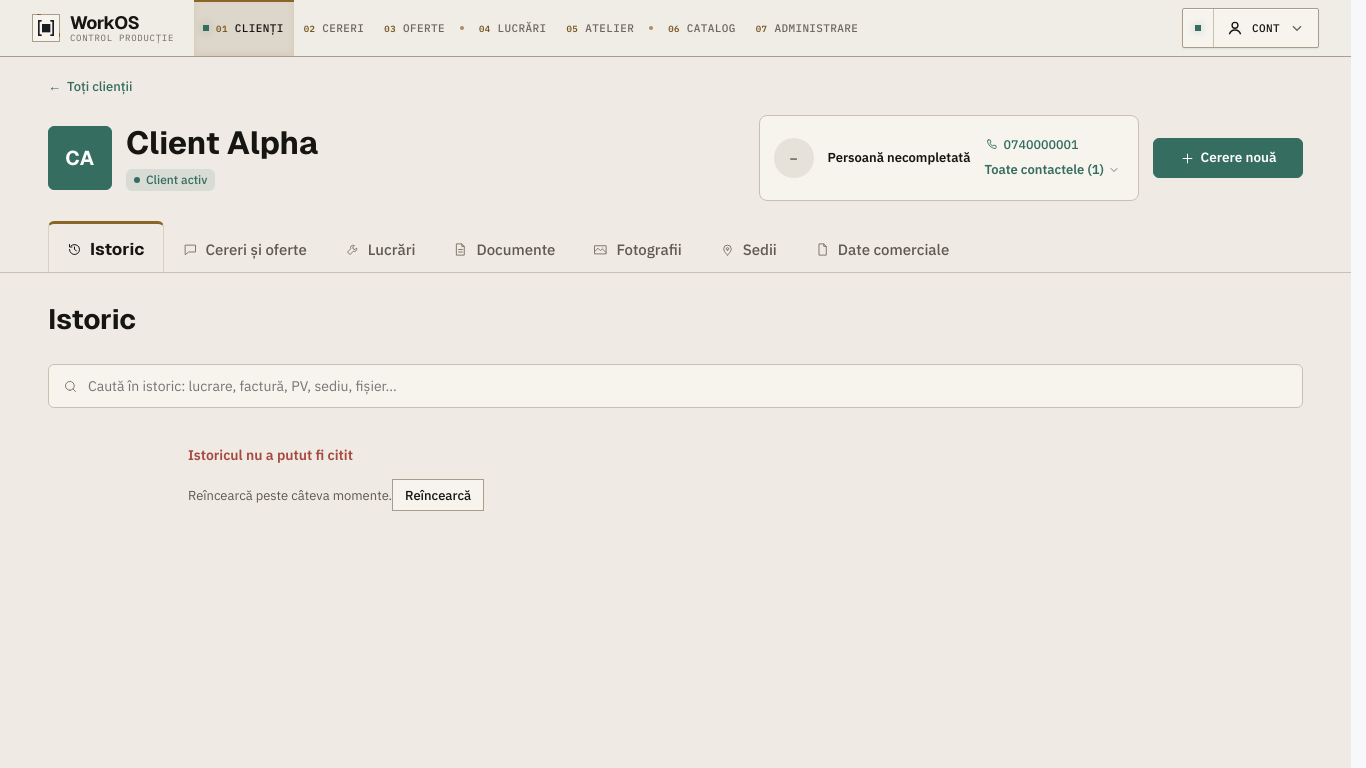
Test: App Cloud auth integration › isolates cached hub data and late reads while switching organization (new GET 403)
This screenshot has width=1366, height=768.
Check: the heading "Client Alpha" is shown, box 126,125 -> 318,161
Click the button "Cont". click: (1266, 28)
box: 1214,9 -> 1318,47
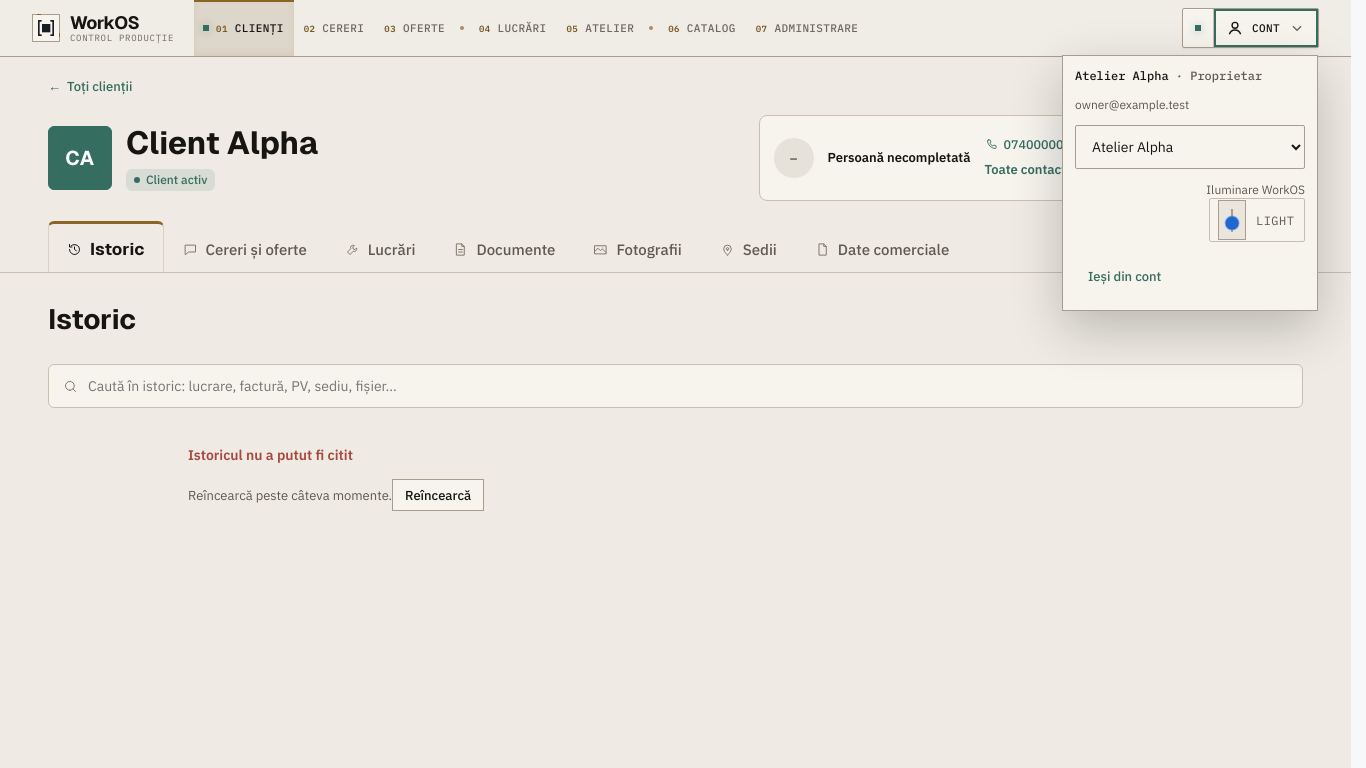
Select "Atelier Beta" in the dropdown named "Organizație activă". click: (1190, 147)
box: 1075,125 -> 1305,169
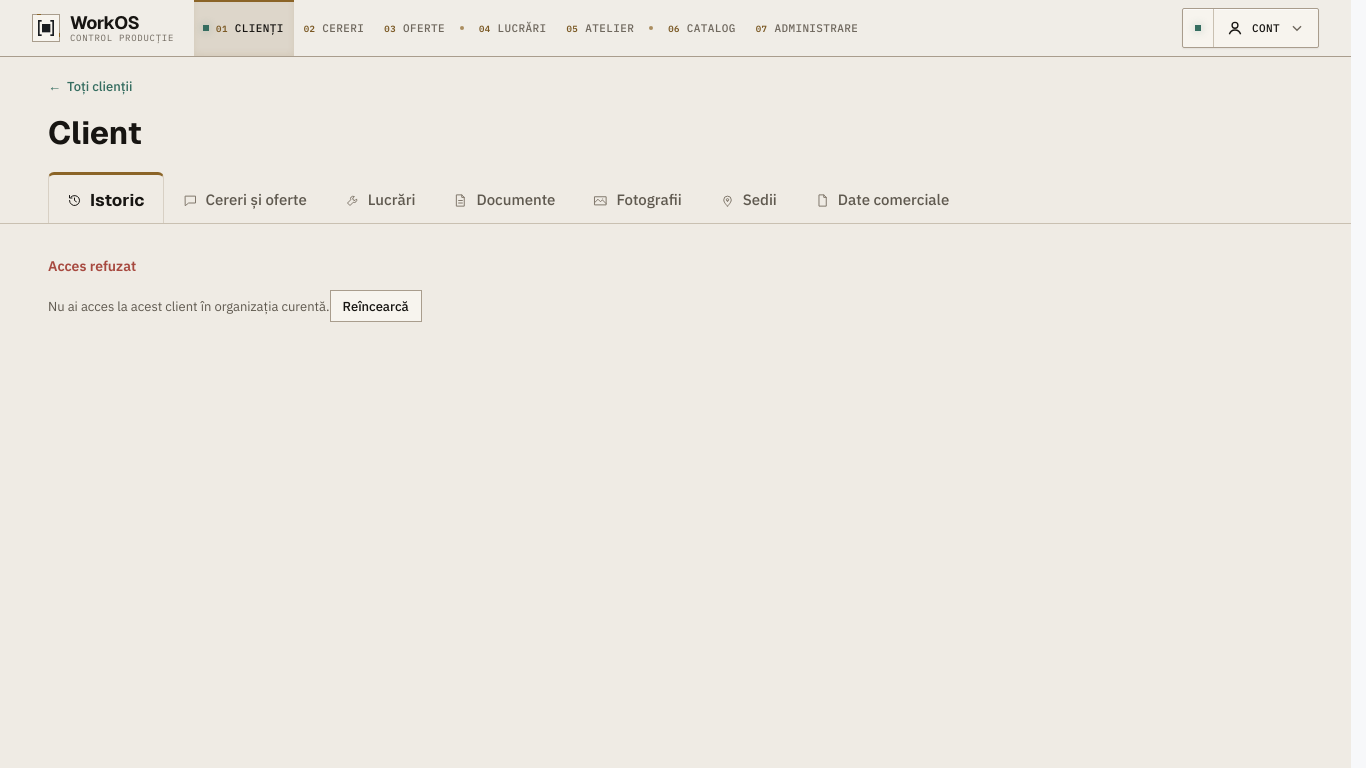
Check: the link "0740000001" is gone
Check: the text "Acces refuzat" is shown, box 48,256 -> 136,276
Check: the heading "Client Alpha" is gone
